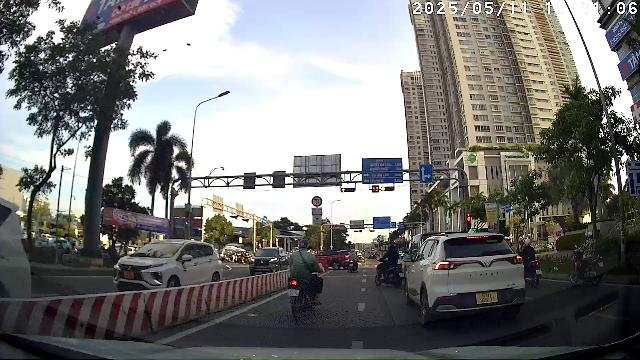103c-cam-oto-re-trai: (311, 195, 323, 207)
